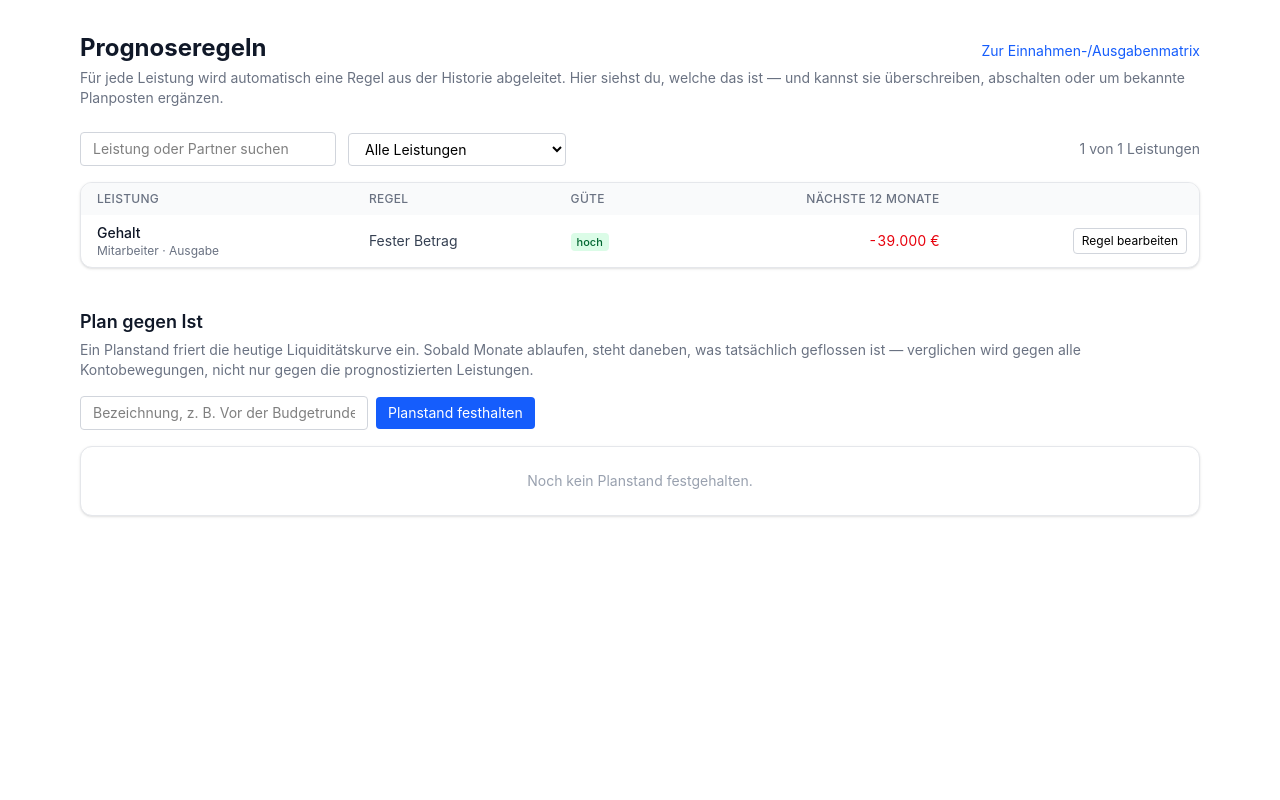
Test: ForecastPage – Planposten › lehnt einen leeren Betrag ab
Click the button "Regel bearbeiten" at [1130, 241], box [1073,228,1187,254]
(page scrolled)
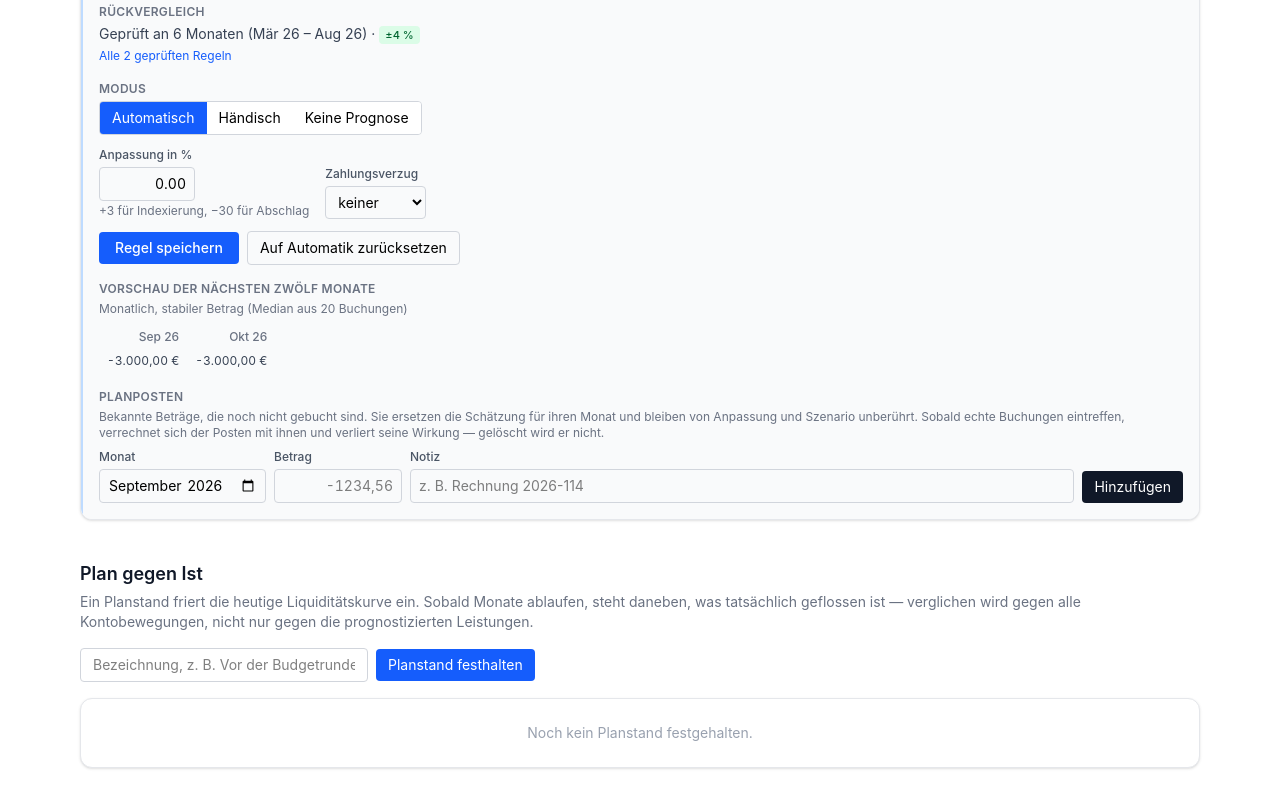
Click the button "Hinzufügen" at [1133, 487], box [1082,471,1183,503]
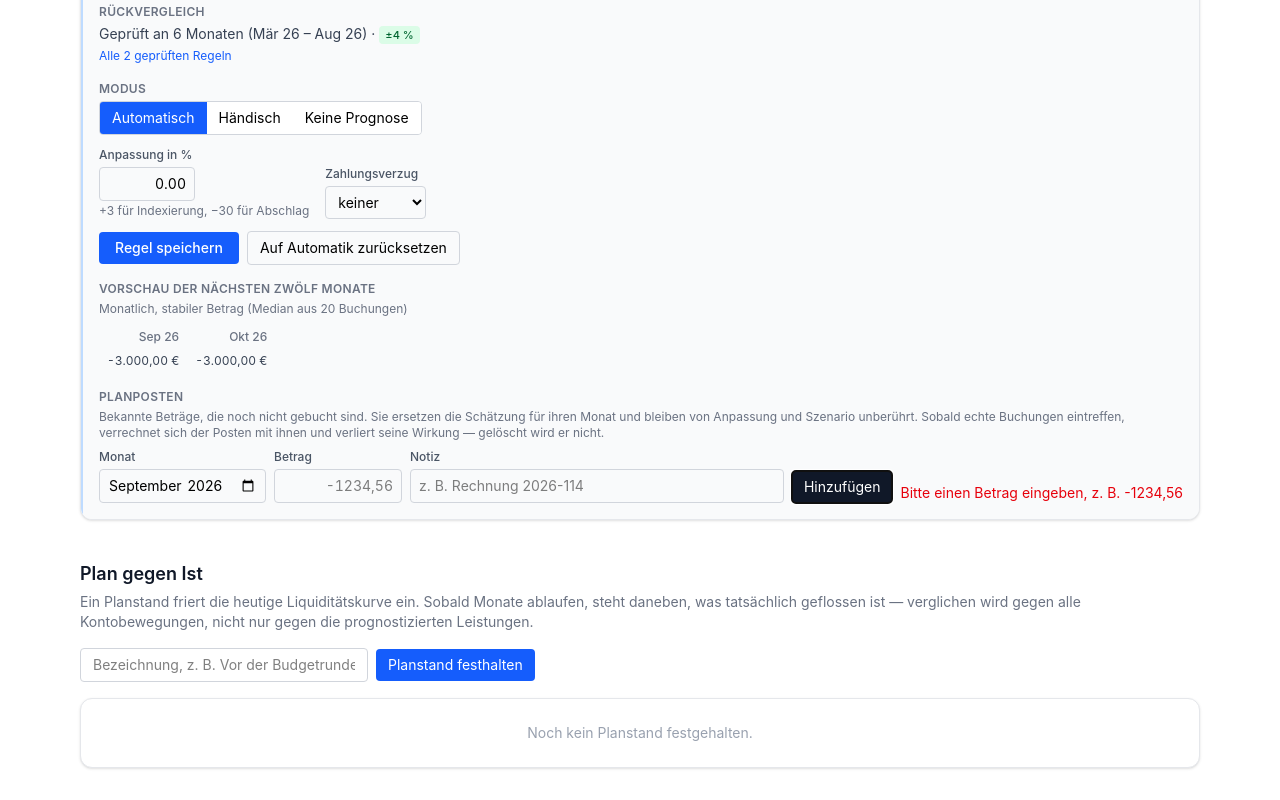
expect the text "Bitte einen Betrag eingeben, z. B. -1234,56" is shown: met, box [900,483,1183,503]
